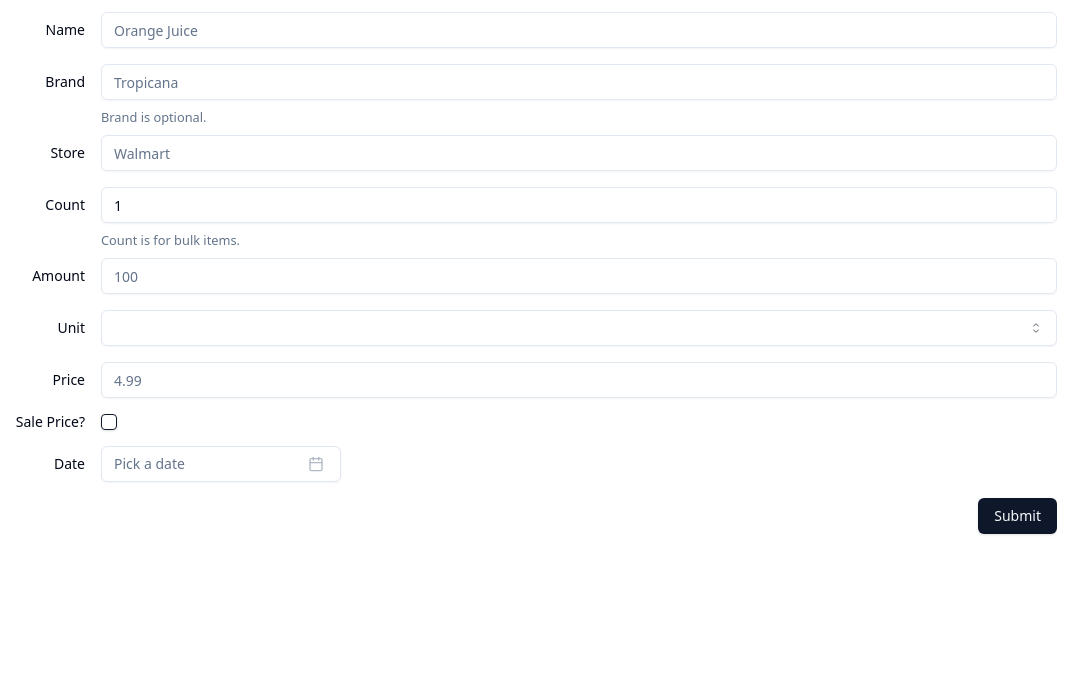
AddItemForm › validation › number field › shows correct error messages for nonpositive number
This screenshot has width=1069, height=687.
Clear the field labelled "Count" at (579, 205), box [101,187,1057,223]
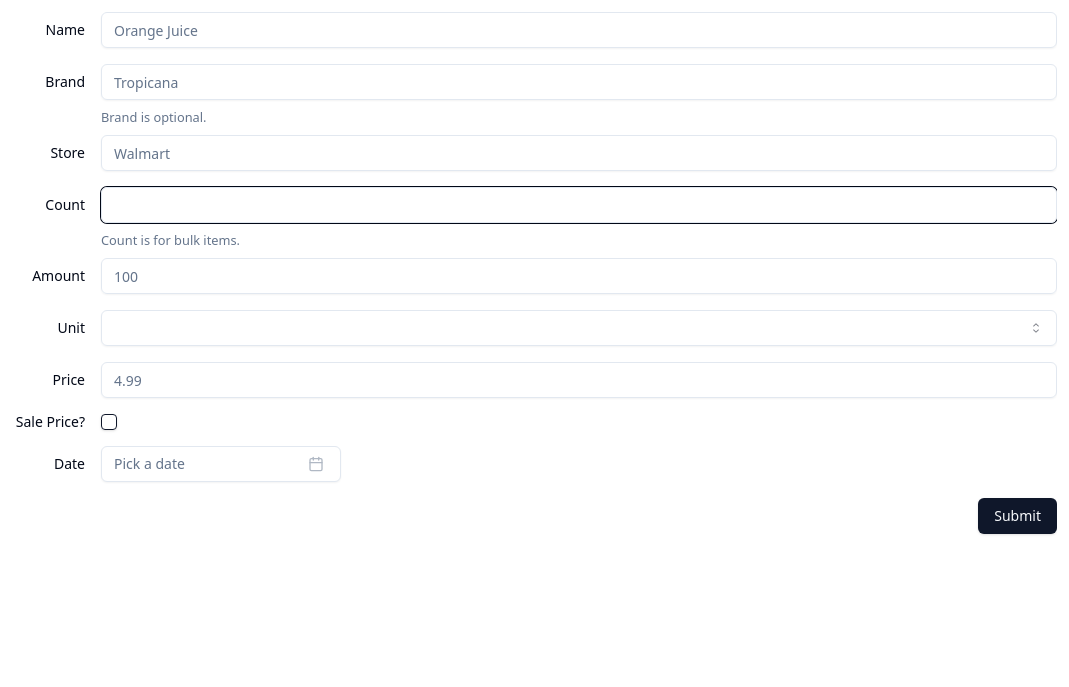
Type "-1" into the number field labelled "Amount" at (579, 276), box [101,258,1057,294]
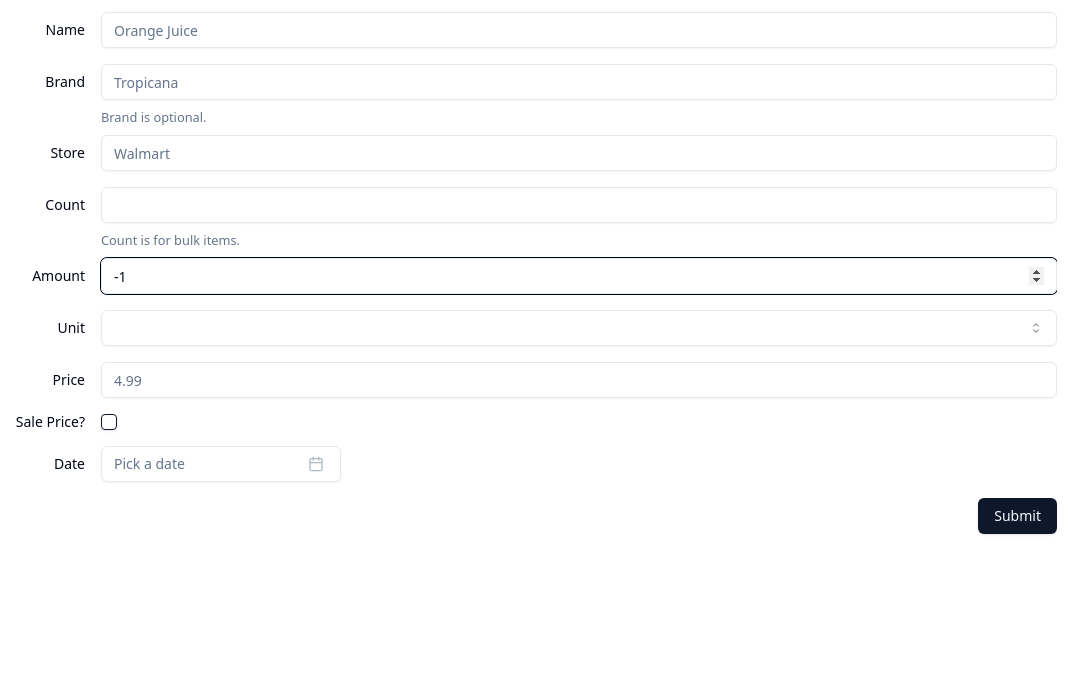
Type "-1" into the number field labelled "Price" at (579, 380), box [101,362,1057,398]
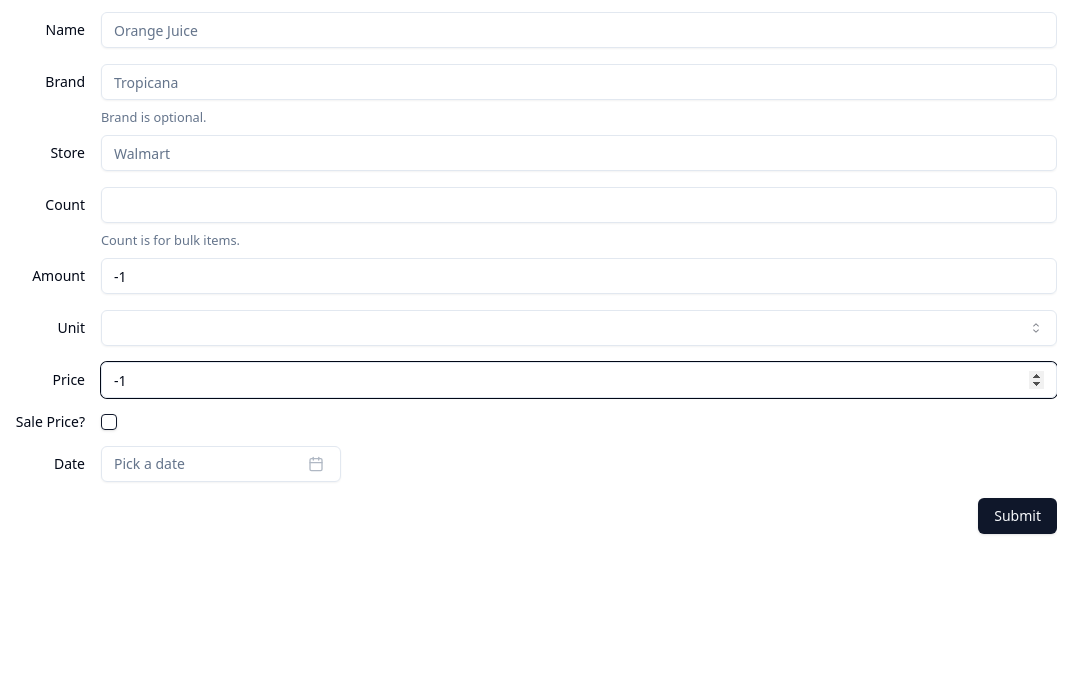
Type "-1" into the field labelled "Count" at (579, 205), box [101,187,1057,223]
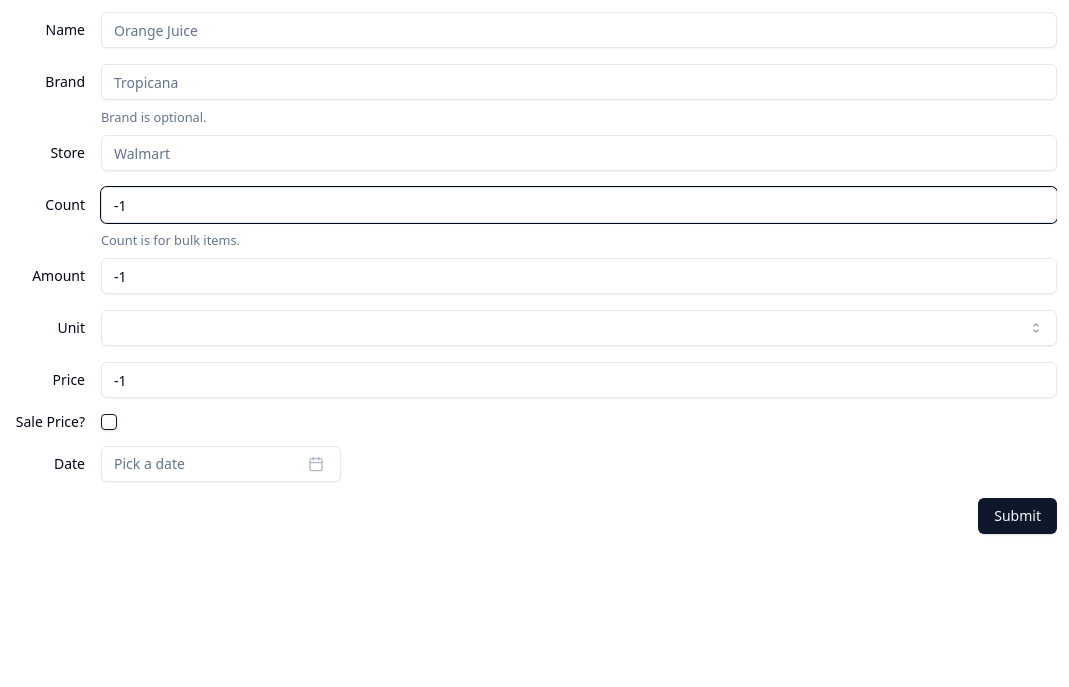
Click the button "Submit" at (1018, 516), box [978,498,1057,534]
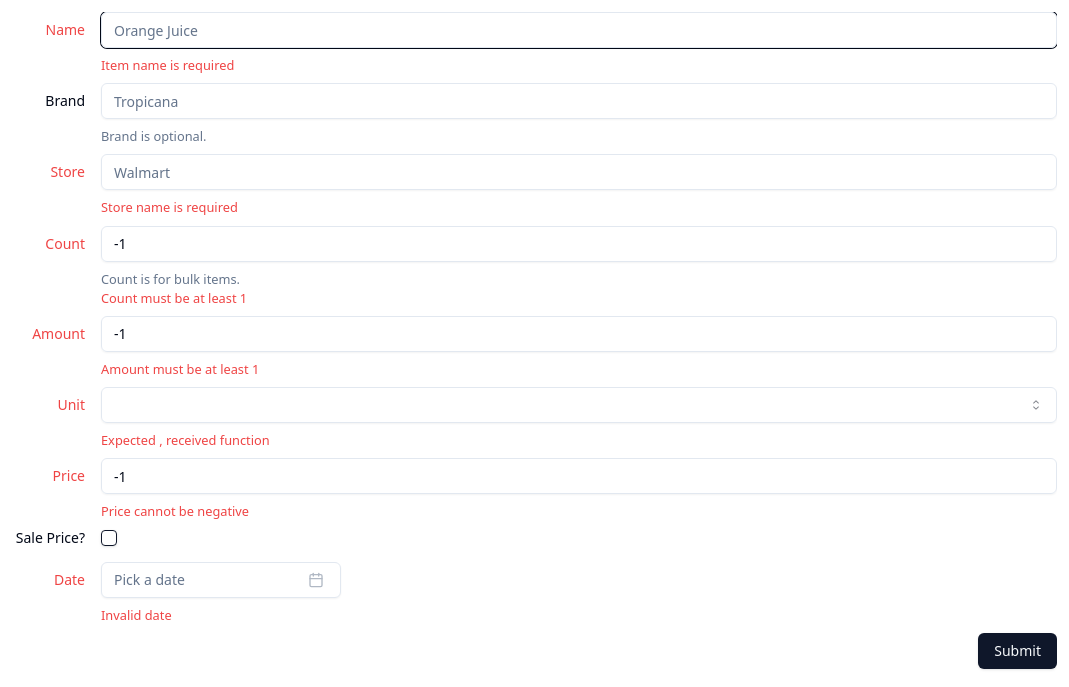
Check: the text "Amount must be at least 1" is shown, box [101,360,259,378]
Check: the text "Count must be at least 1" is shown, box [101,289,247,307]
Check: the text "Price cannot be negative" is shown, box [101,502,249,520]
